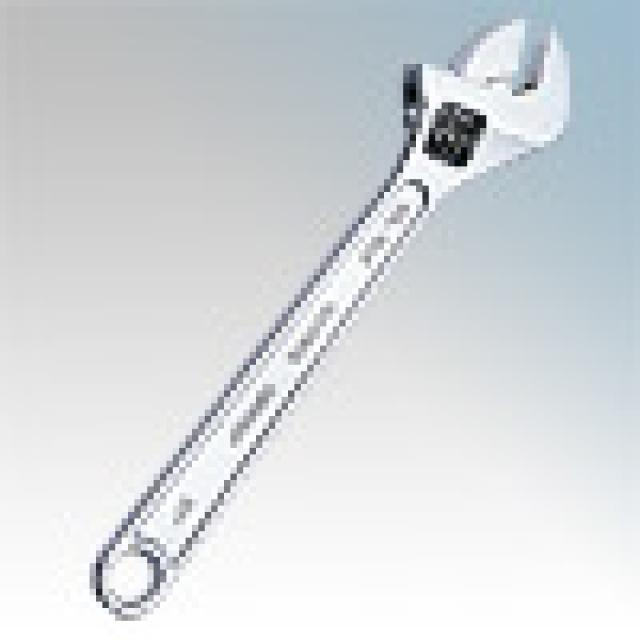wrench: (0, 0, 617, 618)
